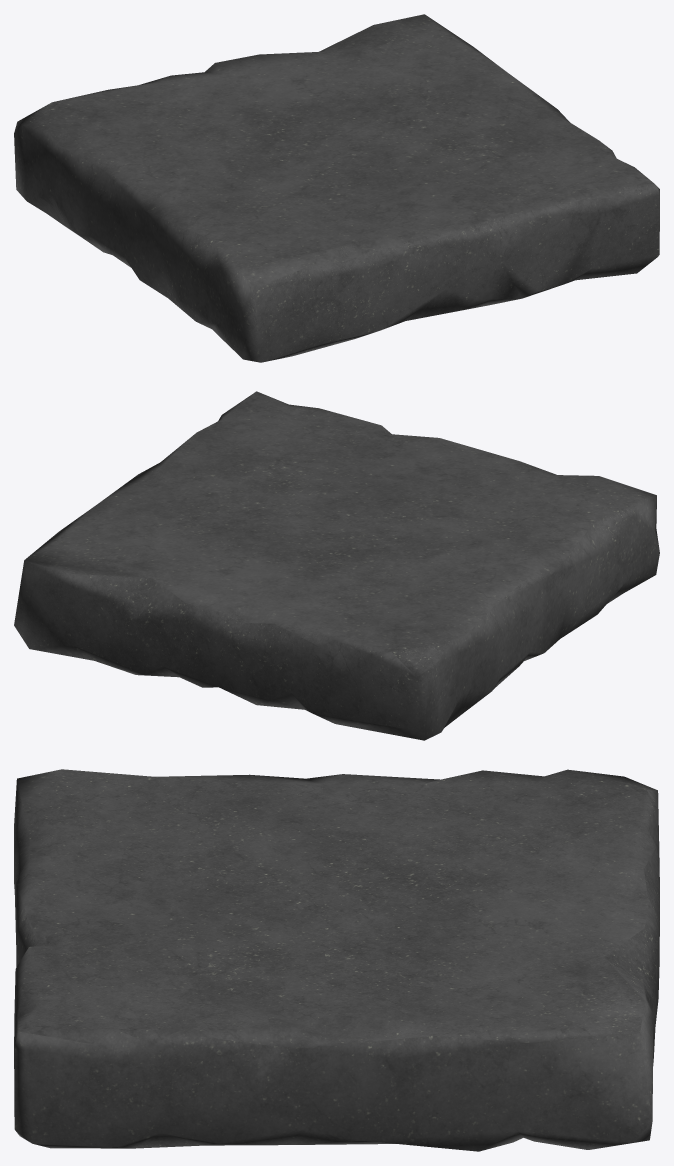
File: SM_Slab4.fbx
The picture shows the model from 3 angles, top to bottom: view 1: azimuth 30°, elevation 25°; view 2: azimuth 150°, elevation 25°; view 3: azimuth 270°, elevation 25°; orthographic projection. The views are drawn at different scales.
Visible parts, largest first — view 1: SM_Slab4_LOD0; view 2: SM_Slab4_LOD0; view 3: SM_Slab4_LOD0.
Boxes of the visible parts, bbox=[...] form: SM_Slab4_LOD0: bbox=[14, 14, 659, 362]; SM_Slab4_LOD0: bbox=[14, 391, 659, 740]; SM_Slab4_LOD0: bbox=[14, 769, 659, 1151].
Bounding box in the file's own units: 151 × 151 × 30.1.
Materials: 1 (1 with a texture image).
